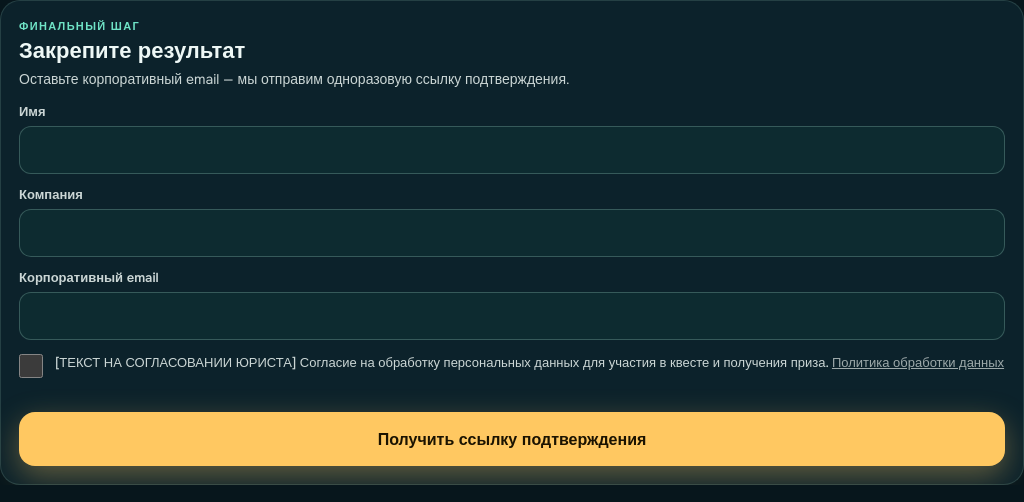
ClaimForm › submits the contact fields and shows the verification instruction
The width and height of the screenshot is (1024, 502).
Step 1. Type "Иван" into the field labelled "Имя" → (512, 150), box x1=19 y1=126 x2=1005 y2=174
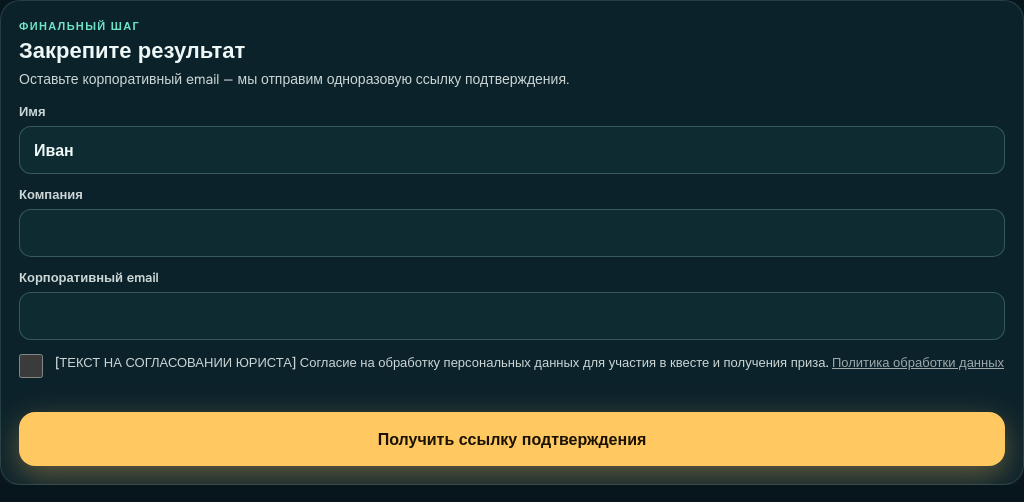
Step 2. Type "Партнёр" into the field labelled "Компания" → (512, 233), box x1=19 y1=209 x2=1005 y2=257
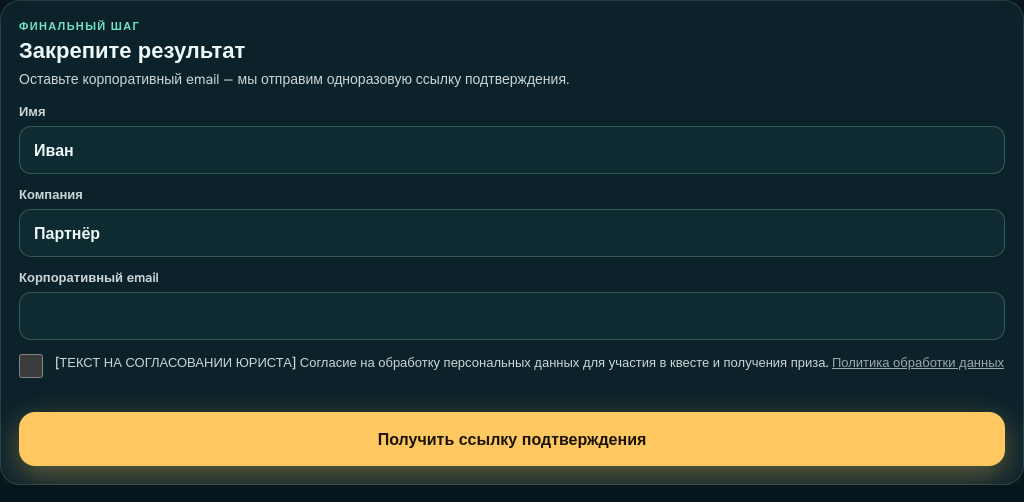
Step 3. Type "ivan@example.com" into the field labelled "Корпоративный email" → (512, 316), box x1=19 y1=292 x2=1005 y2=340
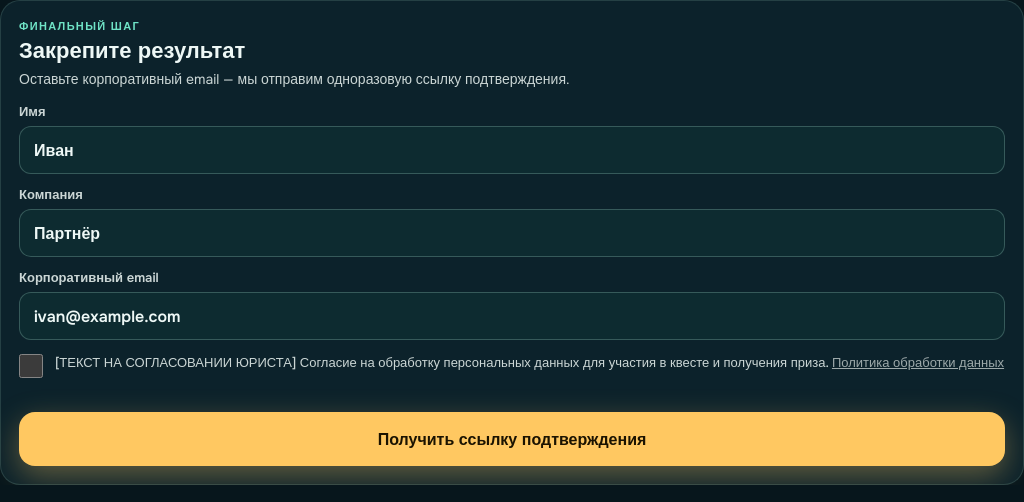
Step 4. Click the checkbox → (31, 366), box x1=19 y1=354 x2=43 y2=378
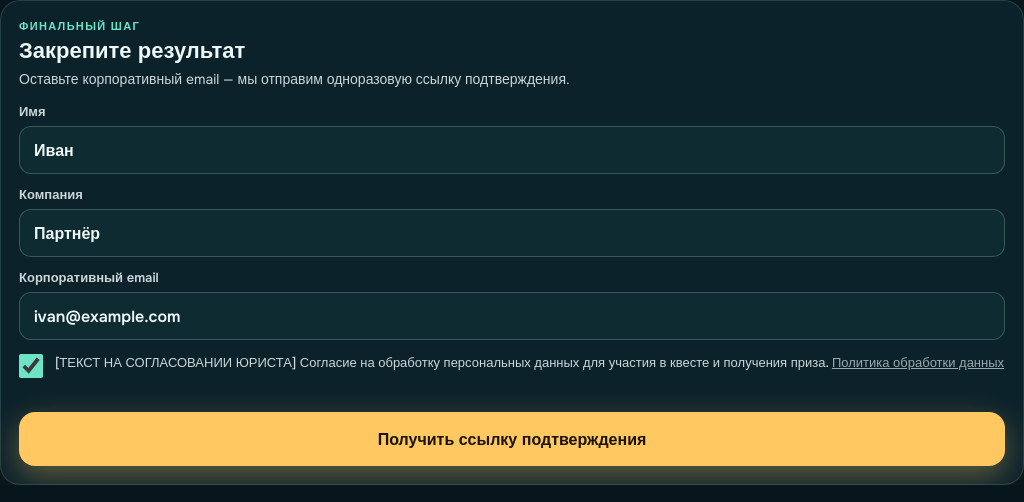
Step 5. Submit the form named "Получить ссылку подтверждения"
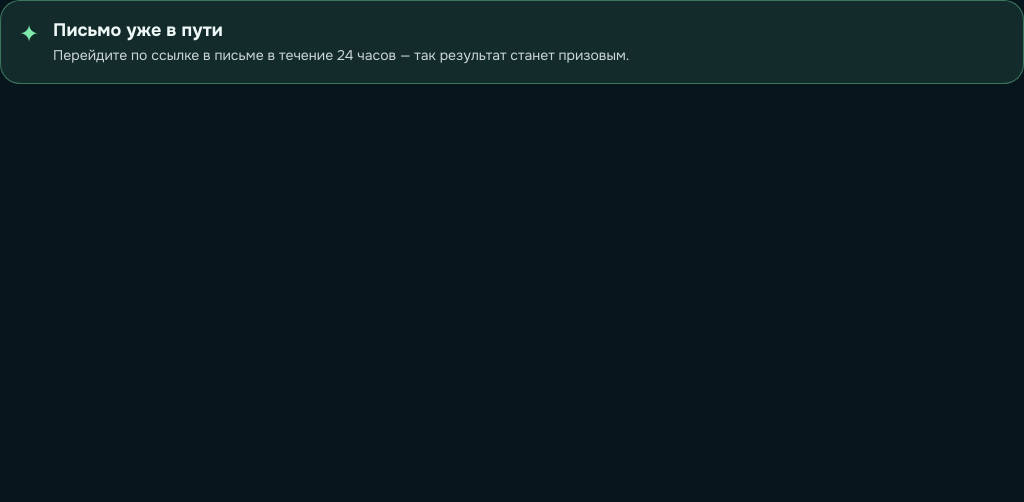
Now the text "Письмо уже в пути" is shown, box x1=53 y1=19 x2=223 y2=41
